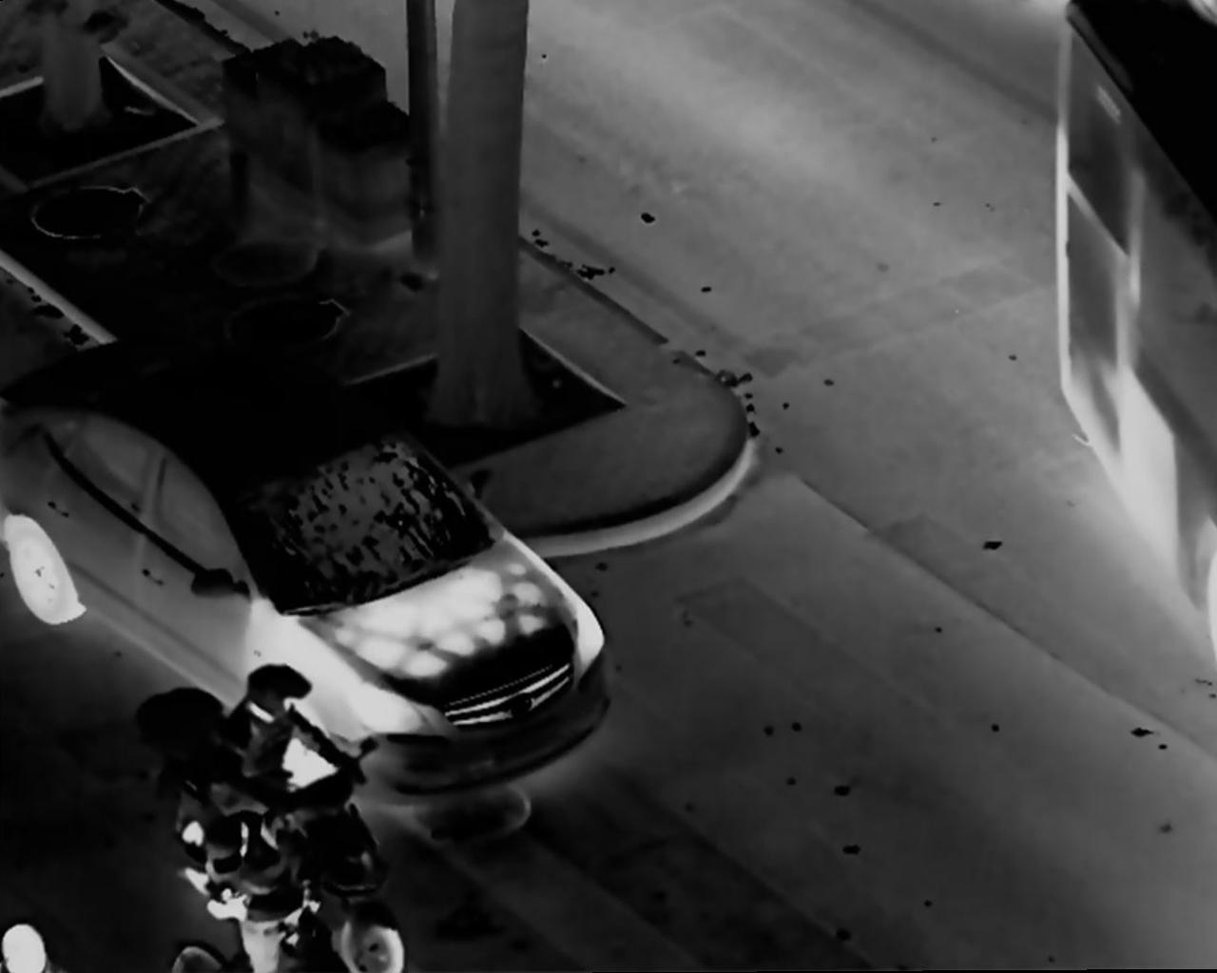person: (188, 660, 350, 943), (200, 814, 346, 973)
